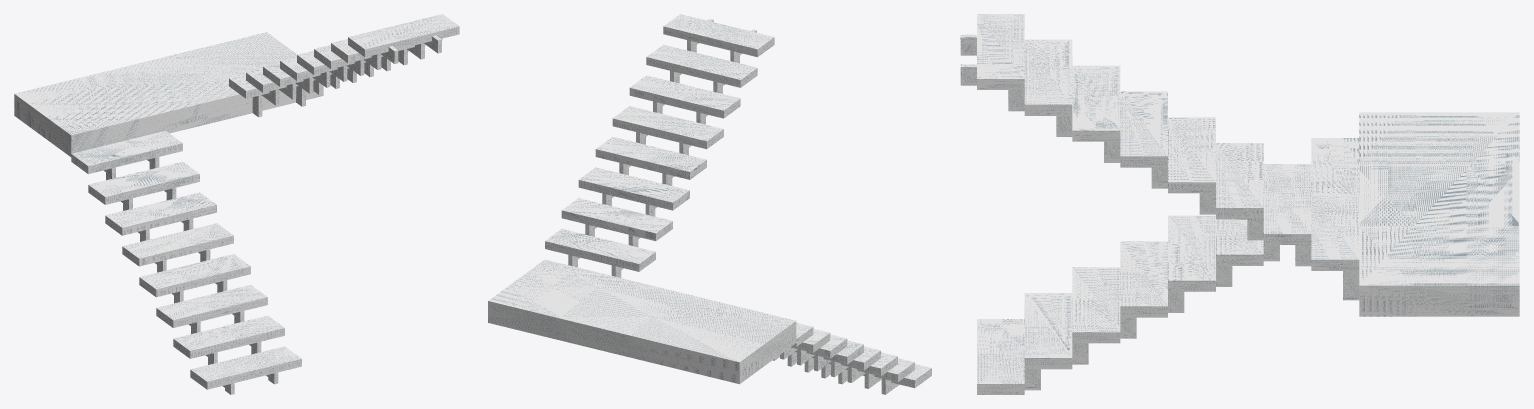
3 renders of one model, left to right at view 1: azimuth 30°, elevation 25°; view 2: azimuth 150°, elevation 25°; view 3: azimuth 270°, elevation 25°, orthographic. The views are drawn at different scales.
Parts seen in each view (by area): view 1: group_0, group_5 (×2), group_2 (×2), group_6 (×2), group_7 (×2), group_10 (×2), group_4 (×2), group_9 (×2), group_11 (×2), group_8 (×2), group_13 (×2); view 2: group_0, group_7 (×2), group_6 (×2), group_8 (×2), group_9 (×2), group_4 (×2), group_10 (×2), group_11 (×2), group_5, group_2 (×2), group_13 (×2); view 3: group_0, group_10 (×2), group_9 (×2), group_11 (×2), group_4 (×2), group_8 (×2), group_5 (×2), group_7 (×2), group_6, group_2, group_13.
Part boxes in pixels (x1=…): group_0: x1=14, y1=32, x2=323, y2=156; group_5 (×2): x1=71, y1=14, x2=459, y2=173; group_2 (×2): x1=252, y1=35, x2=441, y2=117; group_6 (×2): x1=88, y1=38, x2=442, y2=204; group_7 (×2): x1=105, y1=44, x2=425, y2=235; group_10 (×2): x1=173, y1=68, x2=315, y2=358; group_4 (×2): x1=122, y1=50, x2=408, y2=266; group_9 (×2): x1=156, y1=62, x2=332, y2=327; group_11 (×2): x1=190, y1=74, x2=301, y2=389; group_8 (×2): x1=139, y1=56, x2=349, y2=297; group_13 (×2): x1=103, y1=157, x2=278, y2=394; group_0: x1=488, y1=259, x2=796, y2=384; group_7 (×2): x1=629, y1=75, x2=847, y2=358; group_6 (×2): x1=646, y1=44, x2=830, y2=352; group_8 (×2): x1=595, y1=136, x2=880, y2=370; group_9 (×2): x1=578, y1=167, x2=897, y2=376; group_4 (×2): x1=612, y1=106, x2=863, y2=364; group_10 (×2): x1=561, y1=198, x2=914, y2=382; group_11 (×2): x1=545, y1=229, x2=931, y2=388; group_5: x1=663, y1=14, x2=774, y2=57; group_2 (×2): x1=568, y1=18, x2=756, y2=277; group_13 (×2): x1=773, y1=347, x2=899, y2=394; group_0: x1=1359, y1=112, x2=1519, y2=316; group_10 (×2): x1=1024, y1=169, x2=1311, y2=369; group_9 (×2): x1=1072, y1=143, x2=1263, y2=343; group_11 (×2): x1=977, y1=194, x2=1359, y2=394; group_4 (×2): x1=1120, y1=91, x2=1215, y2=291; group_8 (×2): x1=1120, y1=117, x2=1215, y2=317; group_5 (×2): x1=977, y1=14, x2=1359, y2=194; group_7 (×2): x1=1072, y1=65, x2=1263, y2=265; group_6: x1=1024, y1=39, x2=1072, y2=115; group_2: x1=960, y1=64, x2=1359, y2=300; group_13: x1=1024, y1=245, x2=1279, y2=390.
Bounding box in the file's own units: 96 × 131 × 114.
